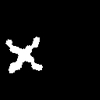single_crochet: (6, 37, 41, 72)
